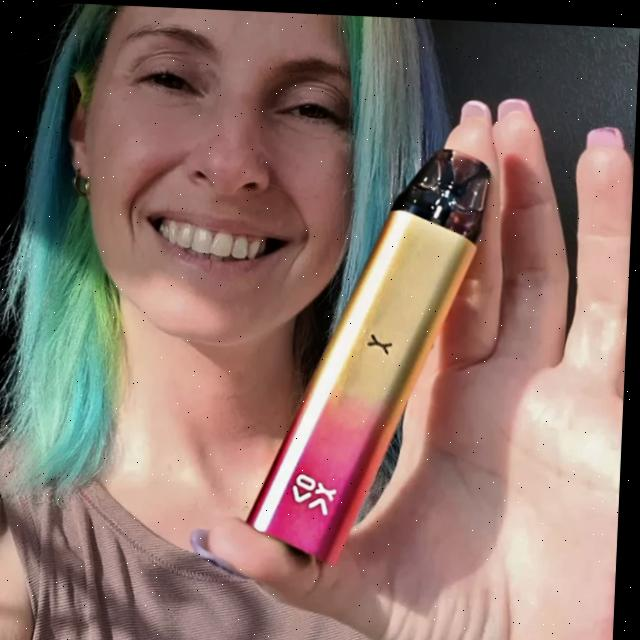vape: (249, 136, 495, 566)
